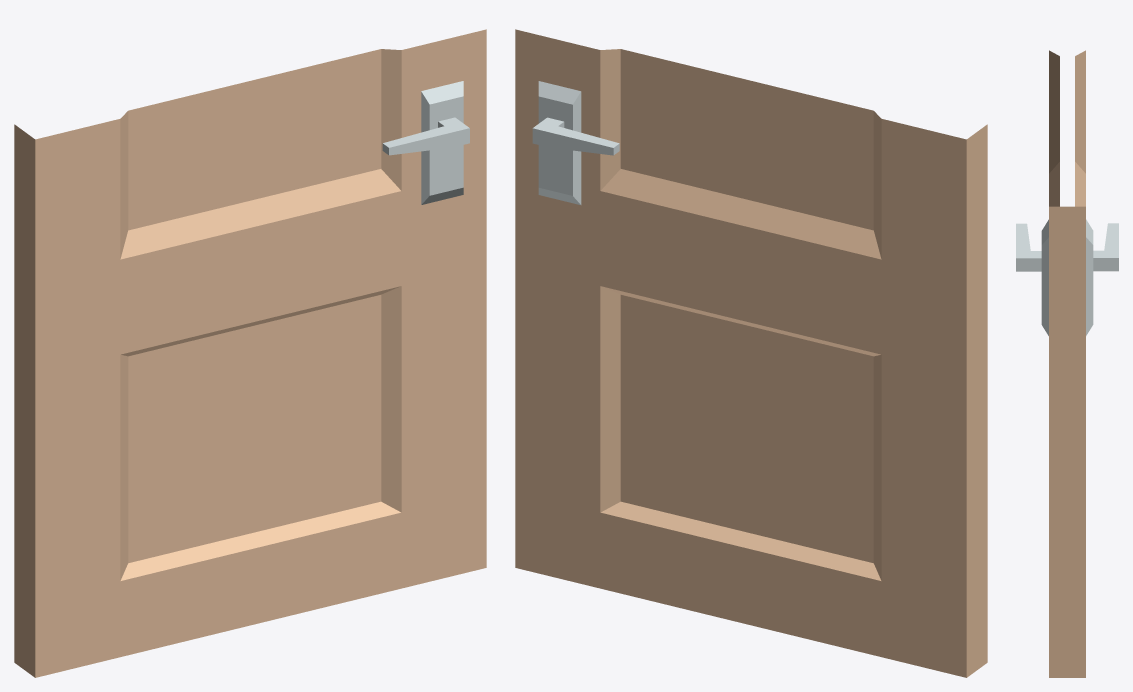
The model's file is doorLeaf.glb.
3 renders of one model, left to right at view 1: azimuth 30°, elevation 25°; view 2: azimuth 150°, elevation 25°; view 3: azimuth 270°, elevation 25°, orthographic. The views are drawn at different scales.
Visible parts, largest first — view 1: door; view 2: door; view 3: door.
Boxes of the visible parts, left/top/right/bottom form: door: left=14, top=29, right=486, bottom=677; door: left=515, top=29, right=987, bottom=677; door: left=1016, top=50, right=1118, bottom=677.
Size of the model in its own units: 1 by 1.14 by 0.2254.
